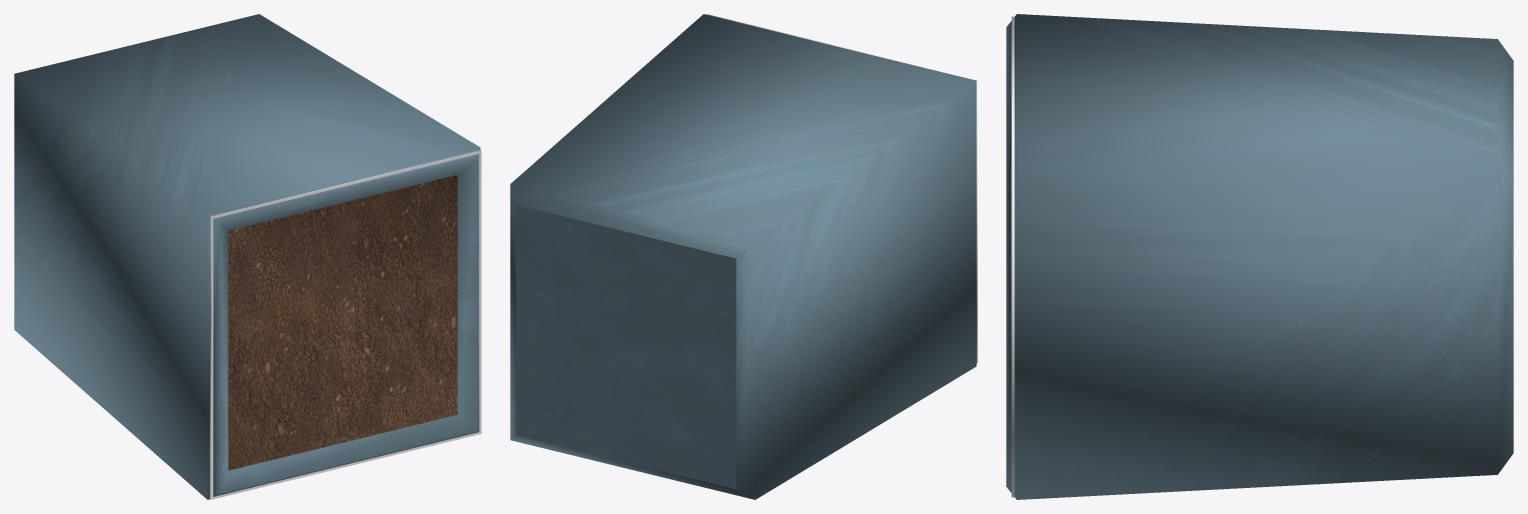
The model's file is p6_karma_pot_med_LOD2.obj.
3 views of the same model, side by side, from view 1: azimuth 30°, elevation 25°; view 2: azimuth 150°, elevation 25°; view 3: azimuth 270°, elevation 25° (orthographic). The views are drawn at different scales.
Visible parts, largest first — view 1: glass_clear, core_dirt_dark, global_white; view 2: glass_clear, global_white; view 3: glass_clear, global_white.
Boxes of the visible parts, <box> form: glass_clear: <box>14,14,480,499</box>; core_dirt_dark: <box>228,175,457,470</box>; global_white: <box>210,150,481,499</box>; glass_clear: <box>510,14,976,499</box>; global_white: <box>707,14,977,362</box>; glass_clear: <box>1006,14,1513,499</box>; global_white: <box>1011,16,1014,497</box>.
Size of the model in its own units: 44 by 44 by 61.06.
